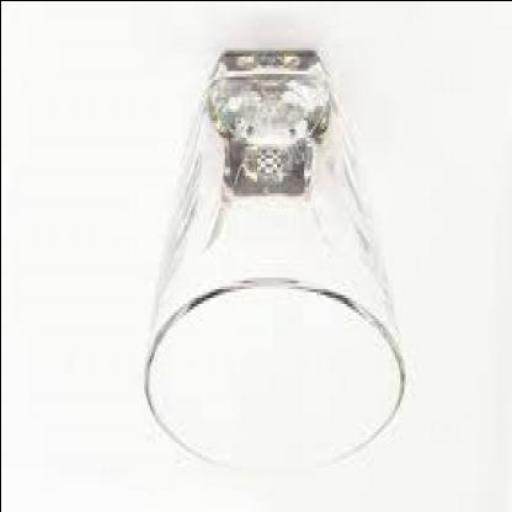glass: (142, 52, 401, 477)
